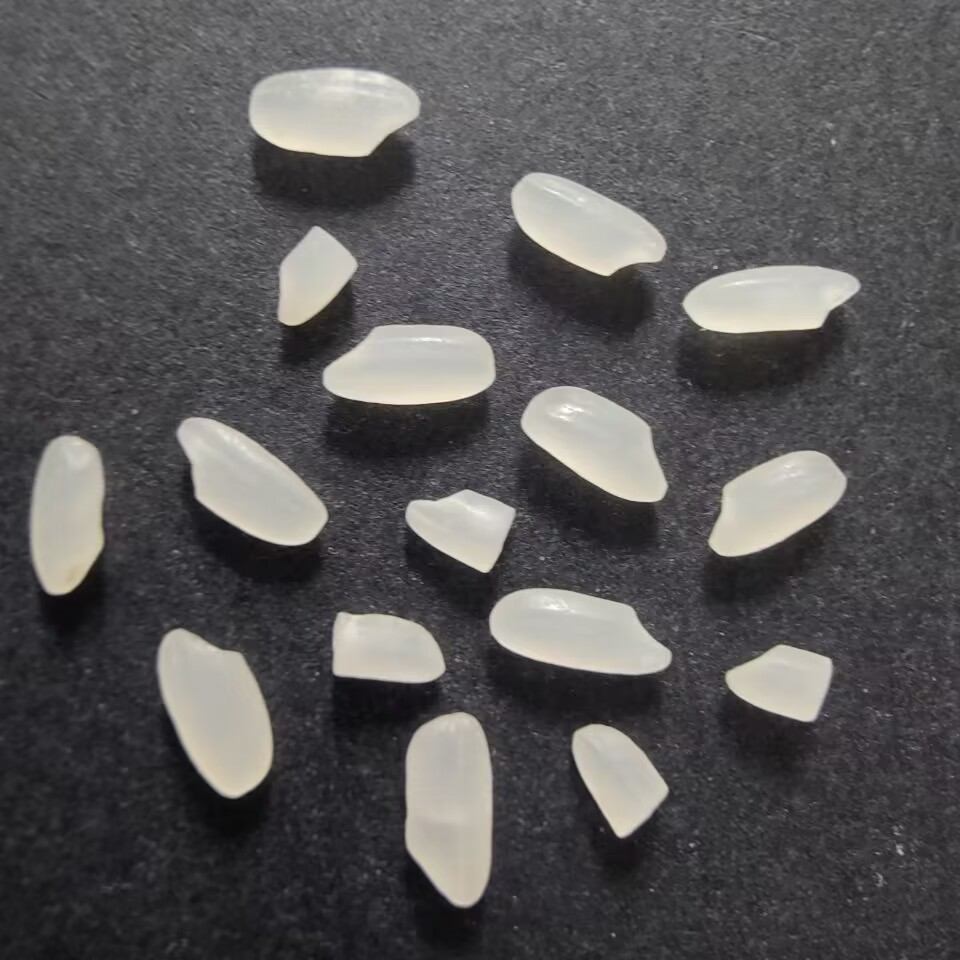broken: (566, 722, 673, 841), (399, 486, 523, 577), (268, 219, 361, 329), (723, 638, 838, 726), (326, 608, 447, 689)
rice: (151, 623, 279, 804), (396, 704, 503, 911), (170, 414, 331, 549), (507, 165, 673, 280), (516, 385, 671, 507), (487, 583, 678, 682), (238, 66, 427, 159), (703, 445, 851, 561), (310, 322, 499, 408), (668, 261, 866, 339), (23, 430, 108, 604)
